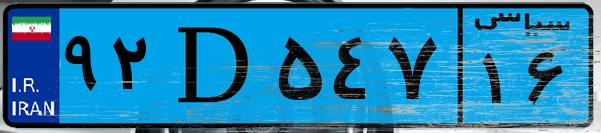1: (475, 38, 525, 113)
2: (110, 28, 158, 98)
4: (330, 28, 385, 110)
5: (270, 28, 330, 110)
6: (525, 38, 570, 115)
7: (385, 28, 445, 110)
9: (57, 26, 110, 100)
D: (158, 12, 270, 120)
